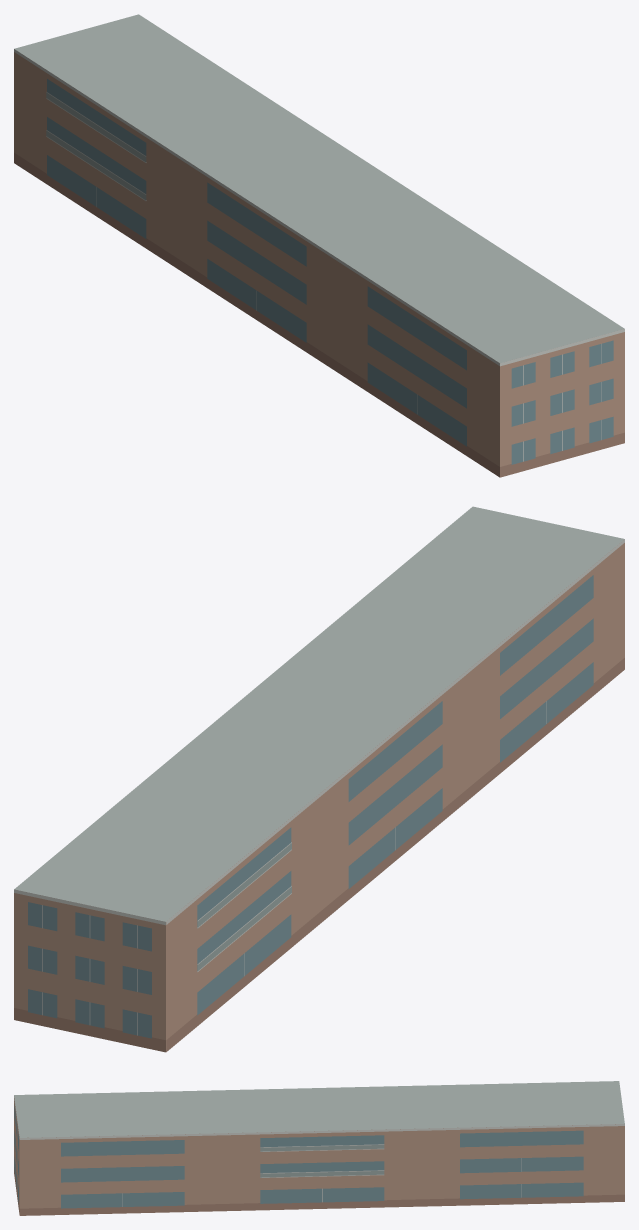
Rendered from residential-d5bdeb25-ac45-497d-b08d-9512a78fa308.glb.
3 views of the same model, one above another, from view 1: azimuth 30°, elevation 25°; view 2: azimuth 150°, elevation 25°; view 3: azimuth 270°, elevation 25° (orthographic). The views are drawn at different scales.
Parts seen in each view (by area): view 1: residential-d5bdeb25-ac45-497d-b08d-9512a78fa308.tmp; view 2: residential-d5bdeb25-ac45-497d-b08d-9512a78fa308.tmp; view 3: residential-d5bdeb25-ac45-497d-b08d-9512a78fa308.tmp.
Part boxes in pixels (left/top/right/bottom): residential-d5bdeb25-ac45-497d-b08d-9512a78fa308.tmp: left=14, top=14, right=624, bottom=477; residential-d5bdeb25-ac45-497d-b08d-9512a78fa308.tmp: left=14, top=506, right=624, bottom=1052; residential-d5bdeb25-ac45-497d-b08d-9512a78fa308.tmp: left=14, top=1081, right=624, bottom=1215.
Bounding box in the file's own units: 14.36 × 9.15 × 65.
